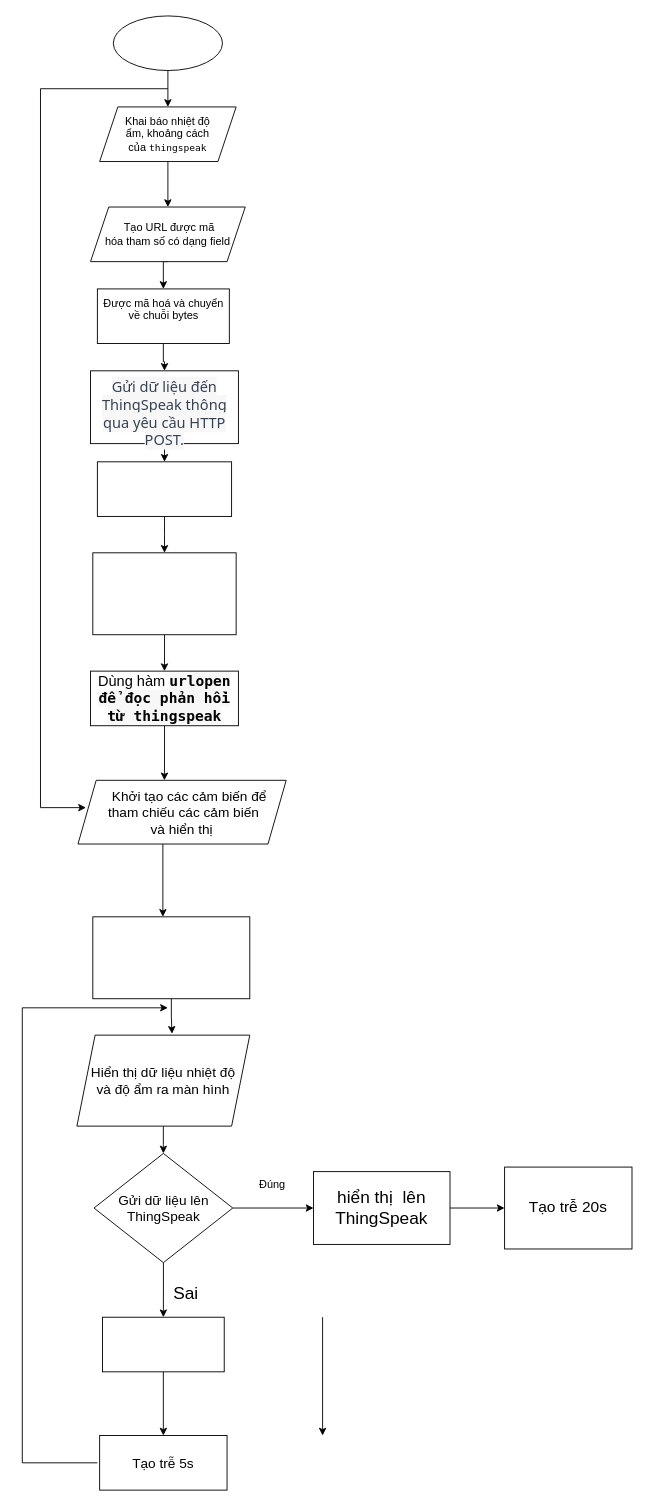
This 648x1506 diagram has some shape labels left out. The centre of each missing label's shape, as x and y in pixels:
"Begin" belongs at pixel 167 43.
"Gán giá trị API" belongs at pixel 164 488.
"Không gửi được dữ liệu" belongs at pixel 163 1344.
"Xác định yêu cầu kiểu dữ liệu" belongs at pixel 164 593.
"Đọc dữ liệu nhiệt độ và độ ẩm, và cảm biến khoảng cách" belongs at pixel 171 957.
